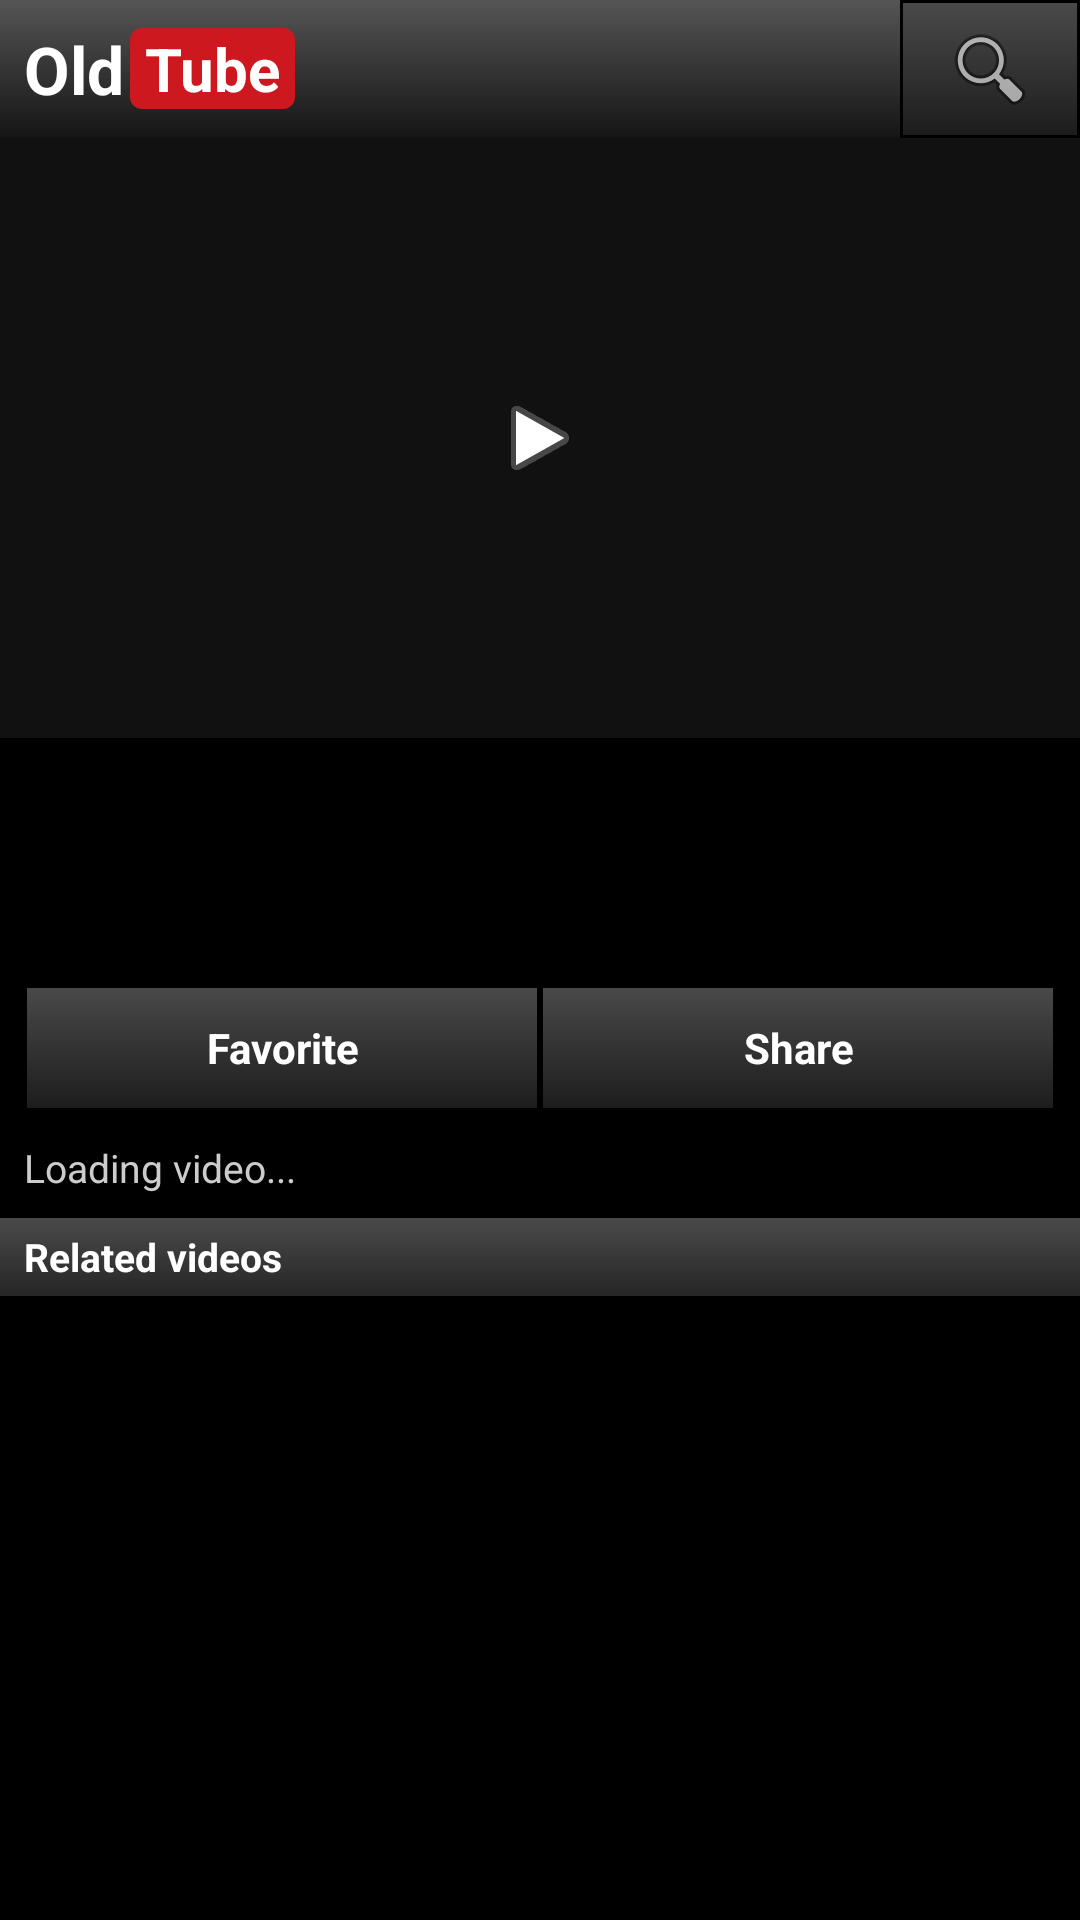

Named icons in this screenshot (1080px x 1920px) and their bounding boxes, [x1,y1,x2,y2]:
play: [511,406,569,470]
search: [903,3,1077,102]
